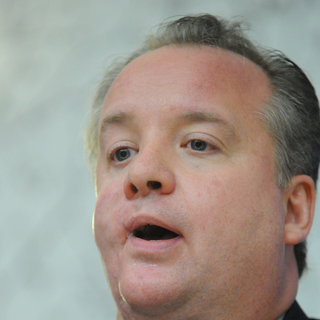eye: (173, 131, 237, 164), (101, 141, 143, 167)
